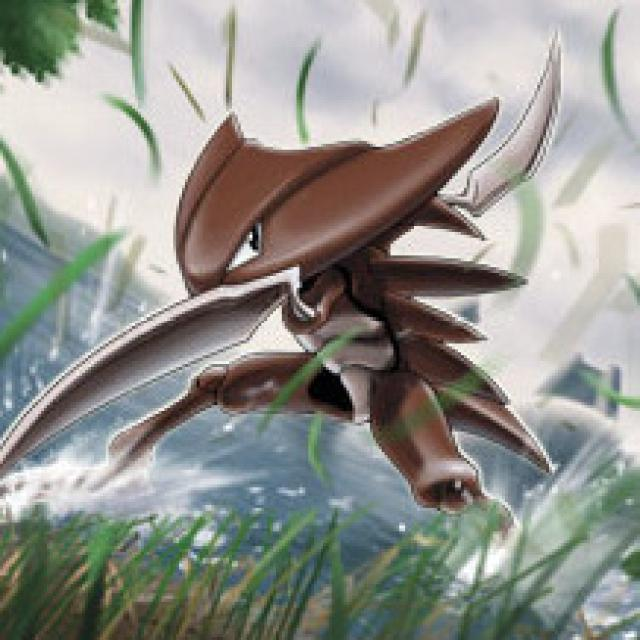Kabutops: (128, 108, 561, 539)
